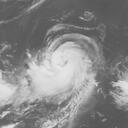cyclone: (36, 29, 98, 95)
